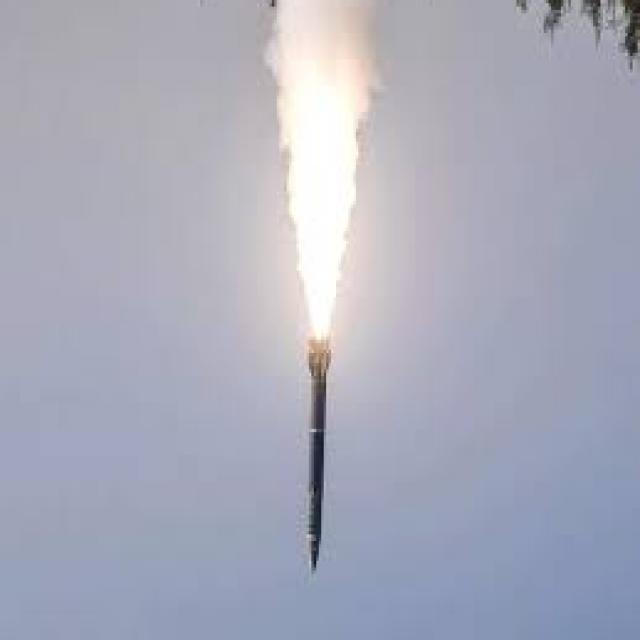missile: (297, 327, 333, 579)
